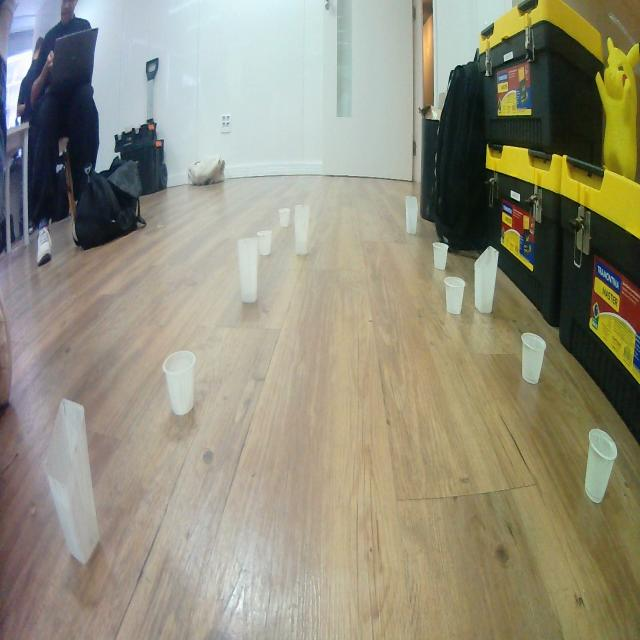erva_daninha: (44, 397, 100, 566), (474, 245, 499, 315), (237, 238, 260, 304), (294, 205, 311, 257), (404, 196, 418, 235)
planta: (584, 428, 618, 505), (164, 350, 196, 416), (521, 332, 547, 385), (444, 276, 466, 316), (432, 242, 449, 271), (257, 230, 273, 256), (279, 208, 291, 228)
